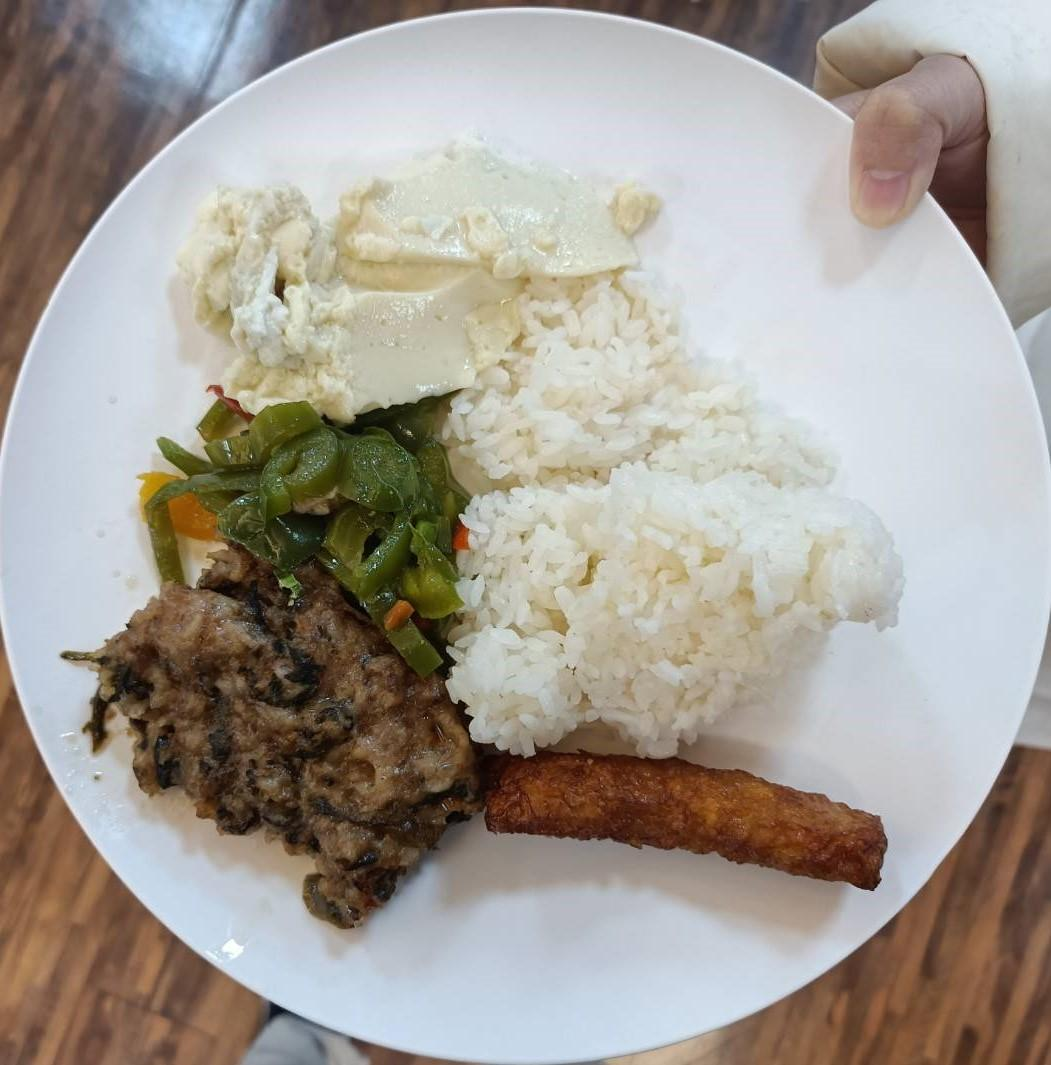big fried chicken leg: (5, 5, 1051, 1065)
big herbal chicken leg: (443, 293, 913, 751)
braised fish fillet: (179, 133, 643, 425), (141, 386, 471, 623)
braised pork: (83, 556, 489, 935), (488, 739, 893, 899)
